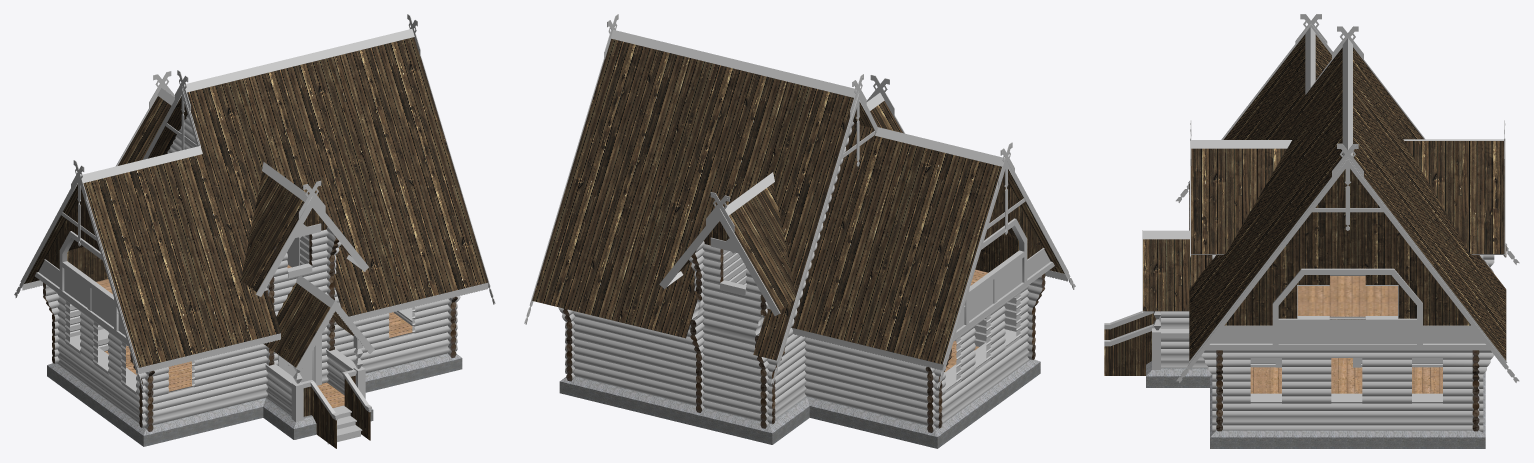
The model's file is House.FBX.
The picture shows the model from 3 angles, left to right: view 1: azimuth 30°, elevation 25°; view 2: azimuth 150°, elevation 25°; view 3: azimuth 270°, elevation 25°; orthographic projection. The views are drawn at different scales.
Visible parts, largest first — view 1: Roof, Floor 1 Walls, Roof Decorations, Base, House Decorations, Side Wood, Floor 2 Walls, House Walls Ends, Floor 1, Benchs, Stair Outdoor; view 2: Roof, Floor 1 Walls, Roof Decorations, Base, Floor 2 Walls, House Decorations, House Walls Ends, Side Wood, Benchs; view 3: Roof, Floor 1 Walls, Side Wood, House Decorations, Roof Decorations, Base, Floor 2, Floor 1, House Walls Ends, Benchs.
Part boxes in pixels (x1=…): Roof: x1=24, y1=37, x2=488, y2=367; Floor 1 Walls: x1=45, y1=285, x2=460, y2=431; Roof Decorations: x1=14, y1=14, x2=495, y2=390; Base: x1=47, y1=353, x2=462, y2=446; House Decorations: x1=35, y1=223, x2=371, y2=421; Side Wood: x1=45, y1=191, x2=370, y2=448; Floor 2 Walls: x1=167, y1=115, x2=341, y2=311; House Walls Ends: x1=43, y1=234, x2=457, y2=431; Floor 1: x1=104, y1=312, x2=412, y2=407; Benchs: x1=69, y1=308, x2=412, y2=391; Stair Outdoor: x1=327, y1=405, x2=362, y2=444; Roof: x1=532, y1=39, x2=1064, y2=364; Floor 1 Walls: x1=558, y1=275, x2=1042, y2=432; Roof Decorations: x1=524, y1=14, x2=1075, y2=388; Base: x1=559, y1=359, x2=1040, y2=448; Floor 2 Walls: x1=689, y1=122, x2=854, y2=335; House Decorations: x1=710, y1=218, x2=1054, y2=339; House Walls Ends: x1=563, y1=249, x2=1045, y2=432; Side Wood: x1=704, y1=175, x2=1043, y2=272; Benchs: x1=944, y1=329, x2=1016, y2=389; Roof: x1=1143, y1=34, x2=1506, y2=360; Floor 1 Walls: x1=1161, y1=255, x2=1494, y2=432; Side Wood: x1=1104, y1=169, x2=1470, y2=375; House Decorations: x1=1104, y1=268, x2=1489, y2=369; Roof Decorations: x1=1142, y1=14, x2=1519, y2=382; Base: x1=1146, y1=361, x2=1485, y2=448; Floor 2: x1=1297, y1=276, x2=1397, y2=316; Floor 1: x1=1250, y1=358, x2=1442, y2=393; House Walls Ends: x1=1216, y1=255, x2=1479, y2=431; Benchs: x1=1250, y1=393, x2=1442, y2=401.
Size of what is drawn, in the model's own units: 1164 by 951 by 1136.
